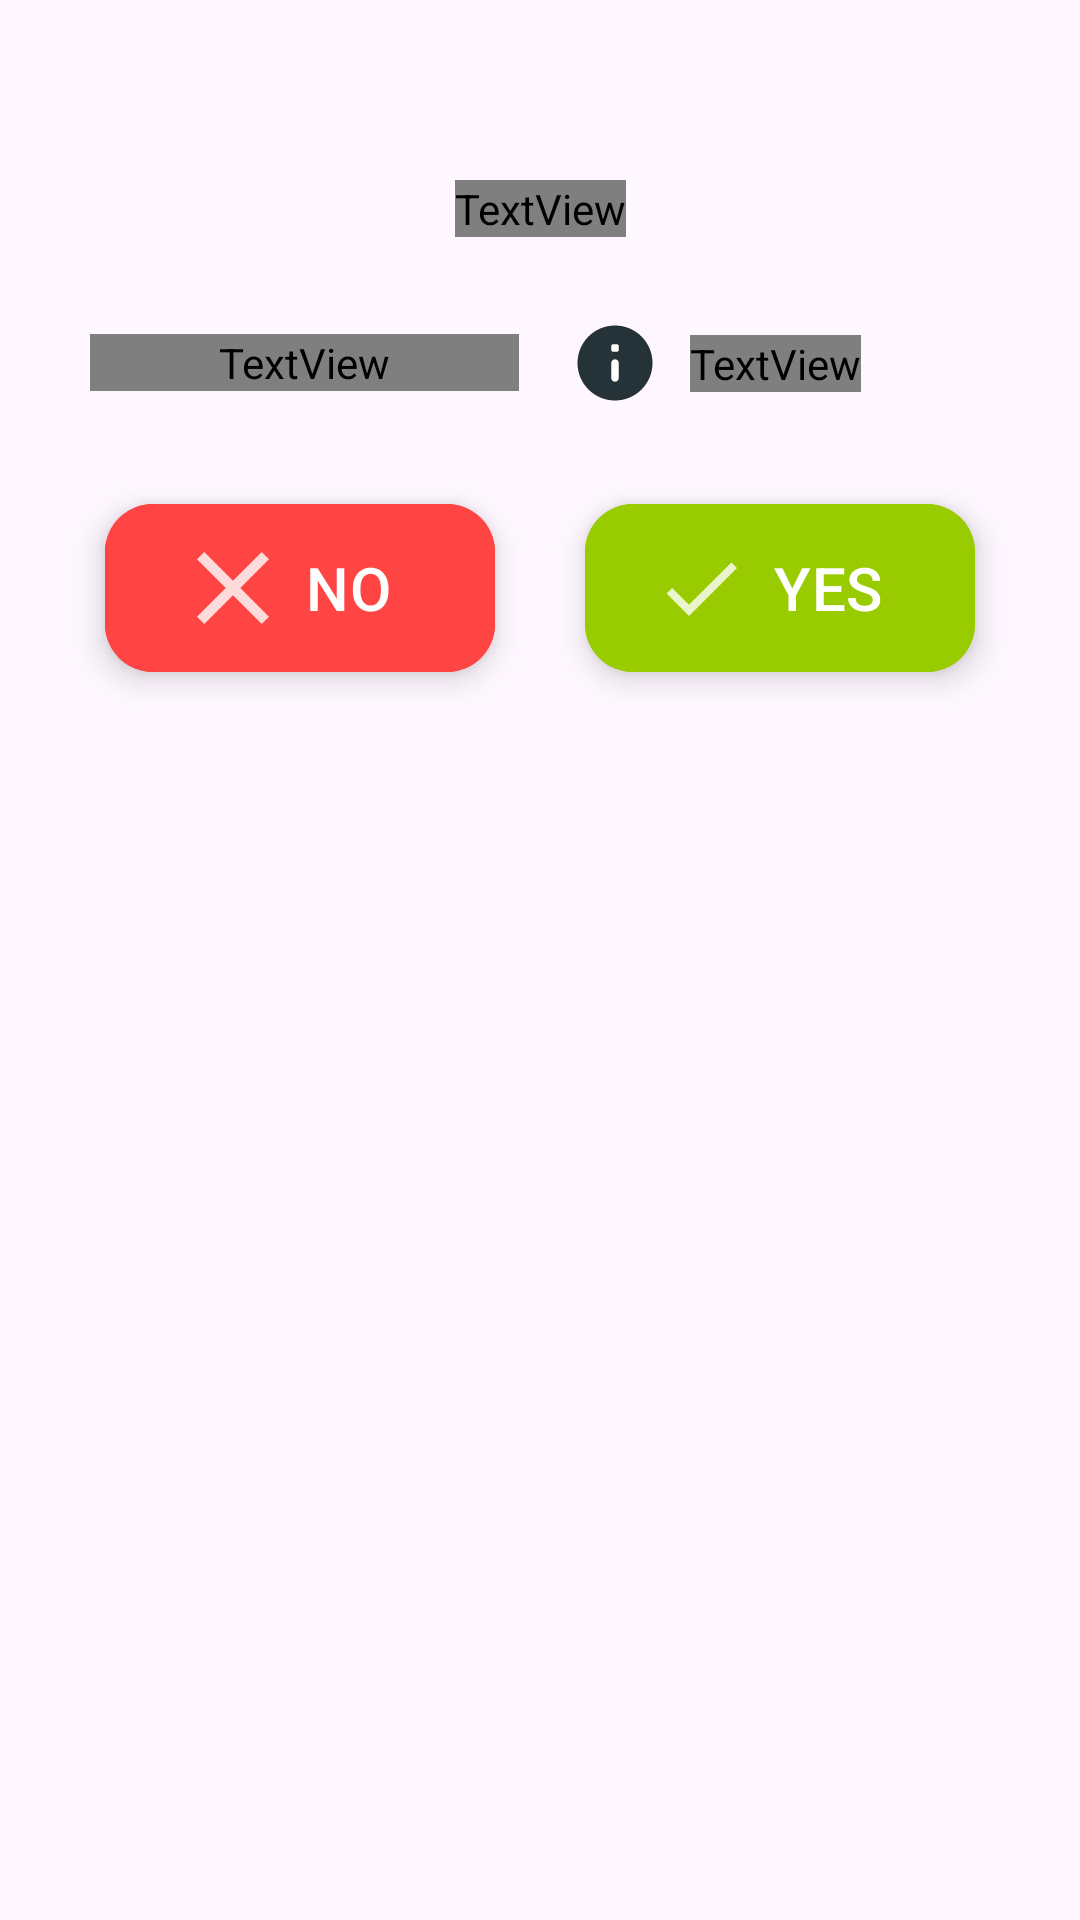

Icon click points for this 1080w x 1920h phone screenshot, format point (x, y):
custom faq: point (615, 363)
